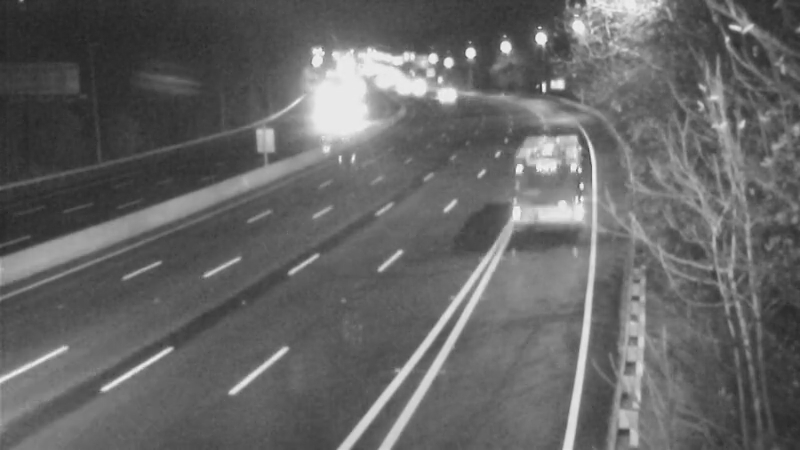vehicle: (489, 136, 569, 216), (419, 71, 469, 121), (309, 92, 359, 142)
